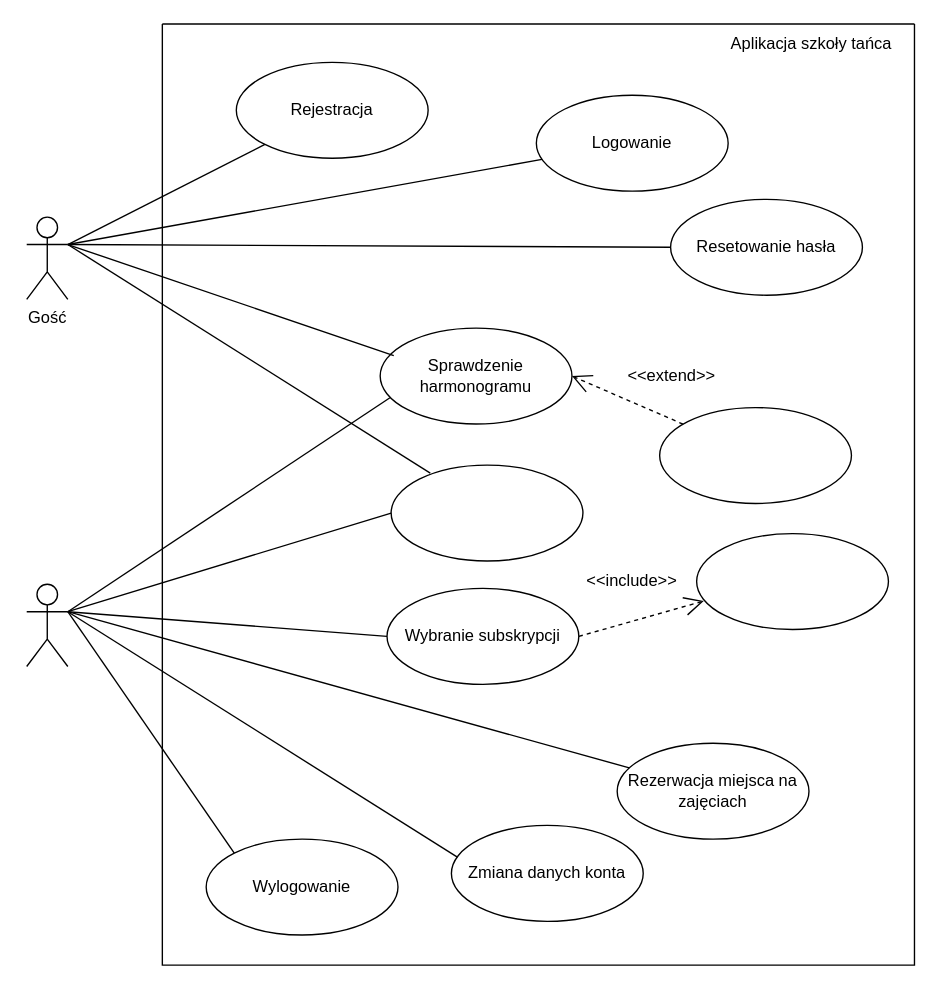
Some shapes in this 938 by 989 pixel diagram are drawn without their labels. Here are the shapes that lost their labels. From the top down, the centre of each, then its label:
At (754,454): "Wyświetlenie szczegółów zajęć".
At (486,512): "Wyświetlenie danych szkoły".
At (791,581): "Tworzenie płatności".
At (46,625): "Uczeń".
